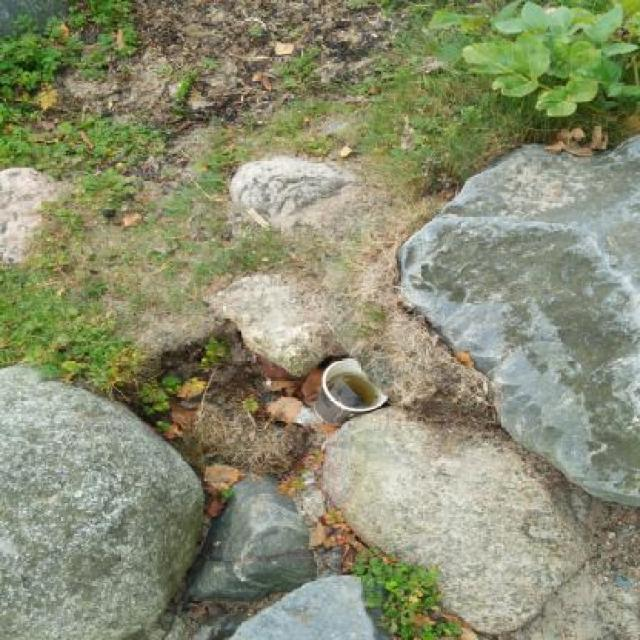cardboard: (357, 249, 428, 326)
